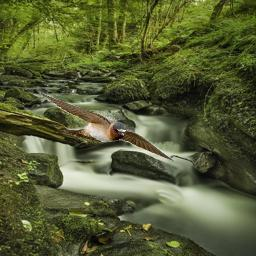Swallow: (38, 90, 176, 161)
